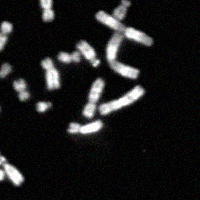chromosome: (96, 10, 153, 45), (106, 31, 139, 78), (99, 85, 145, 114), (0, 139, 23, 187), (82, 78, 103, 118), (76, 40, 99, 67), (40, 58, 59, 89), (68, 120, 103, 133), (34, 0, 54, 22), (14, 78, 30, 100), (0, 22, 12, 50), (113, 0, 130, 19), (57, 51, 80, 62), (0, 62, 11, 77), (36, 101, 51, 112), (0, 165, 3, 180), (0, 94, 1, 115)
